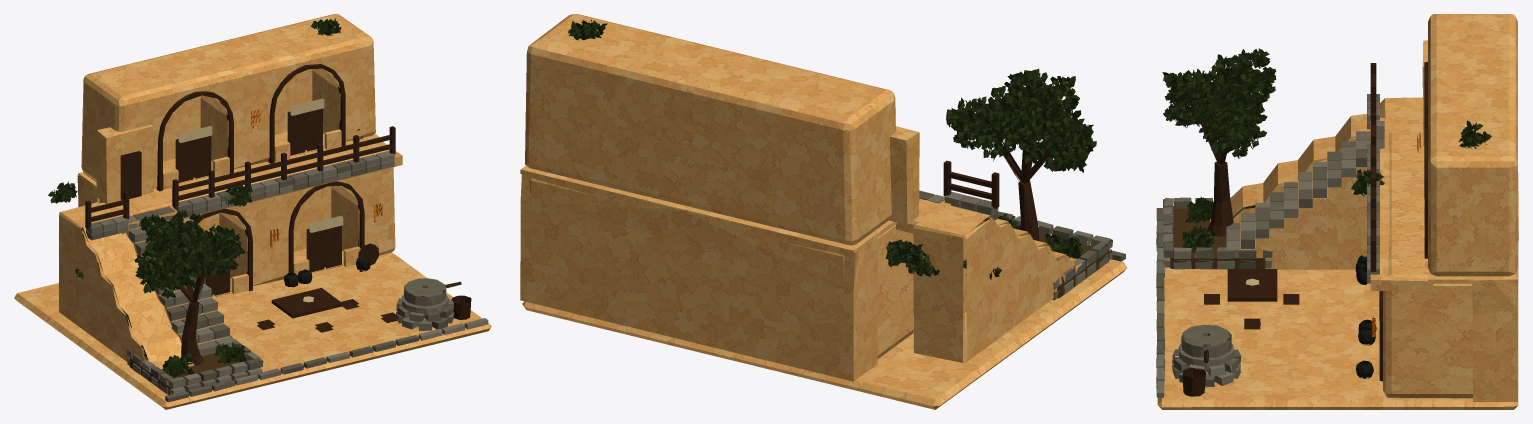
Rendered from yanan-scene.glb.
The picture shows the model from 3 angles, left to right: view 1: azimuth 30°, elevation 25°; view 2: azimuth 150°, elevation 25°; view 3: azimuth 270°, elevation 25°; orthographic projection. The views are drawn at different scales.
Parts seen in each view (by area): view 1: yanan-scene-complete-environment; view 2: yanan-scene-complete-environment; view 3: yanan-scene-complete-environment.
Boxes of the visible parts, <box> form: yanan-scene-complete-environment: <box>14,14,491,409</box>; yanan-scene-complete-environment: <box>520,14,1127,409</box>; yanan-scene-complete-environment: <box>1156,14,1518,409</box>.
Size of the model in its own units: 1 by 0.6499 by 0.8028.
Materials: 14 (14 with a texture image).
